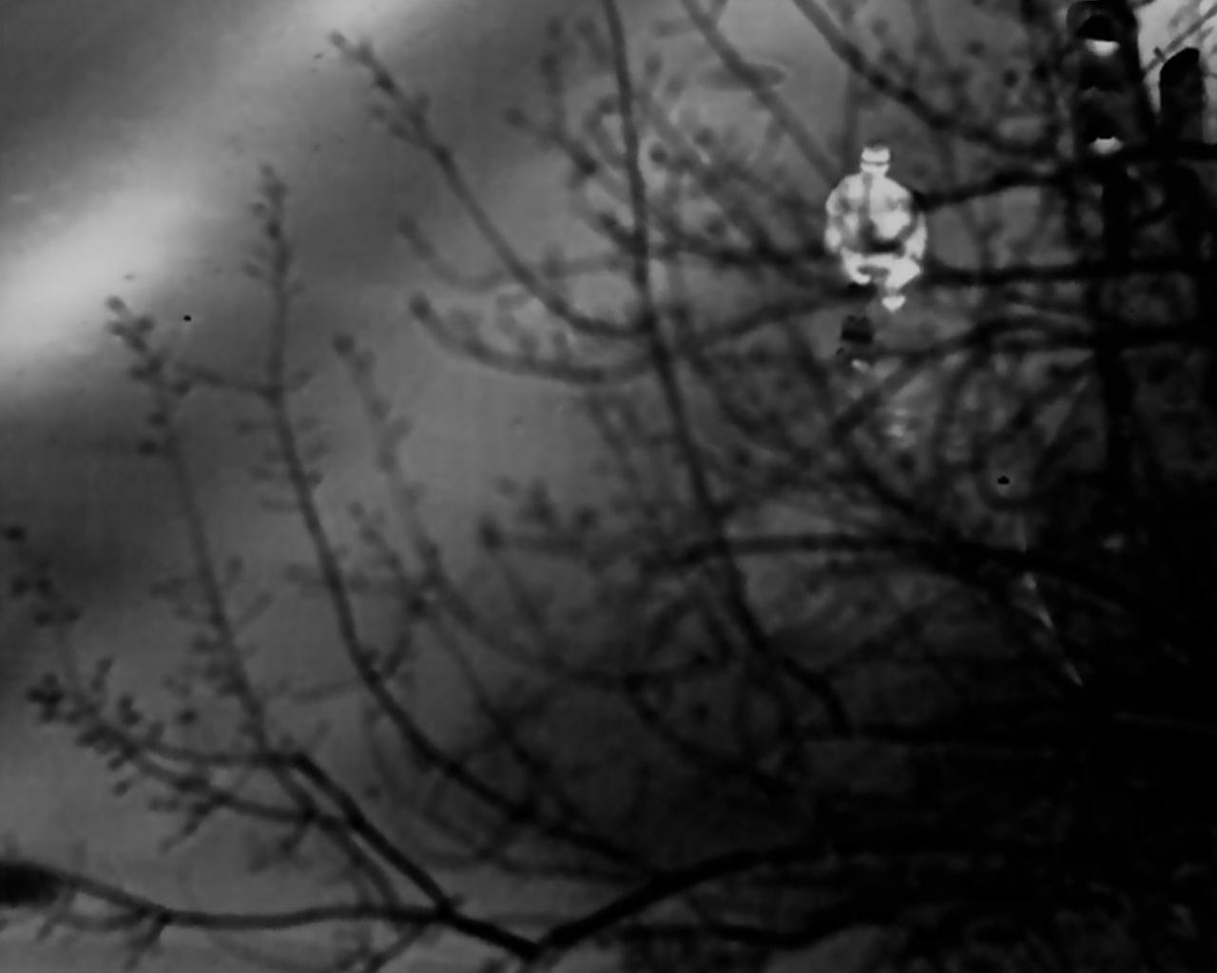person: (829, 142, 923, 309)
